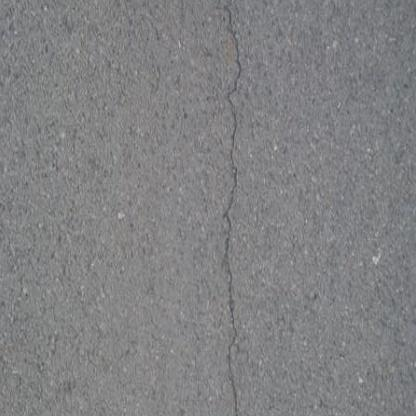Cracks: (218, 0, 248, 416)
